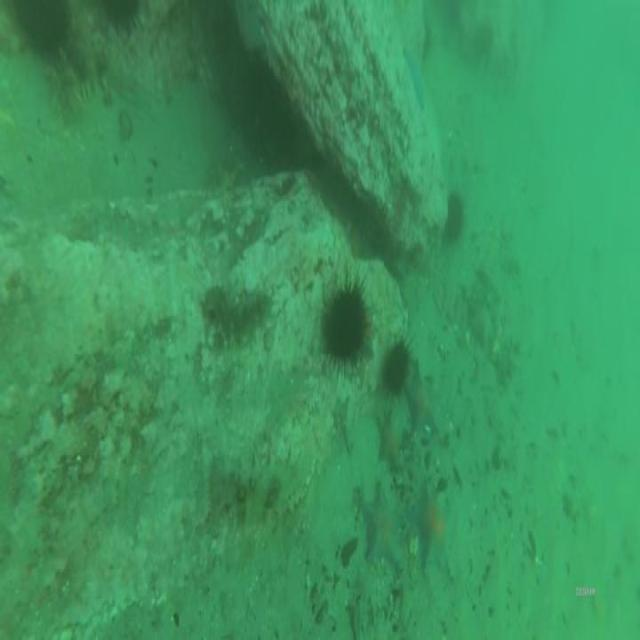echinus: (317, 266, 375, 382), (18, 0, 76, 63), (380, 333, 418, 400), (95, 0, 144, 44), (441, 186, 469, 246)
holothurian: (200, 277, 276, 354), (44, 33, 118, 111), (236, 446, 310, 523), (210, 148, 247, 192)
starfish: (359, 478, 410, 578), (410, 474, 456, 577), (404, 357, 441, 443), (374, 406, 406, 477), (402, 43, 432, 117), (230, 0, 265, 55)
